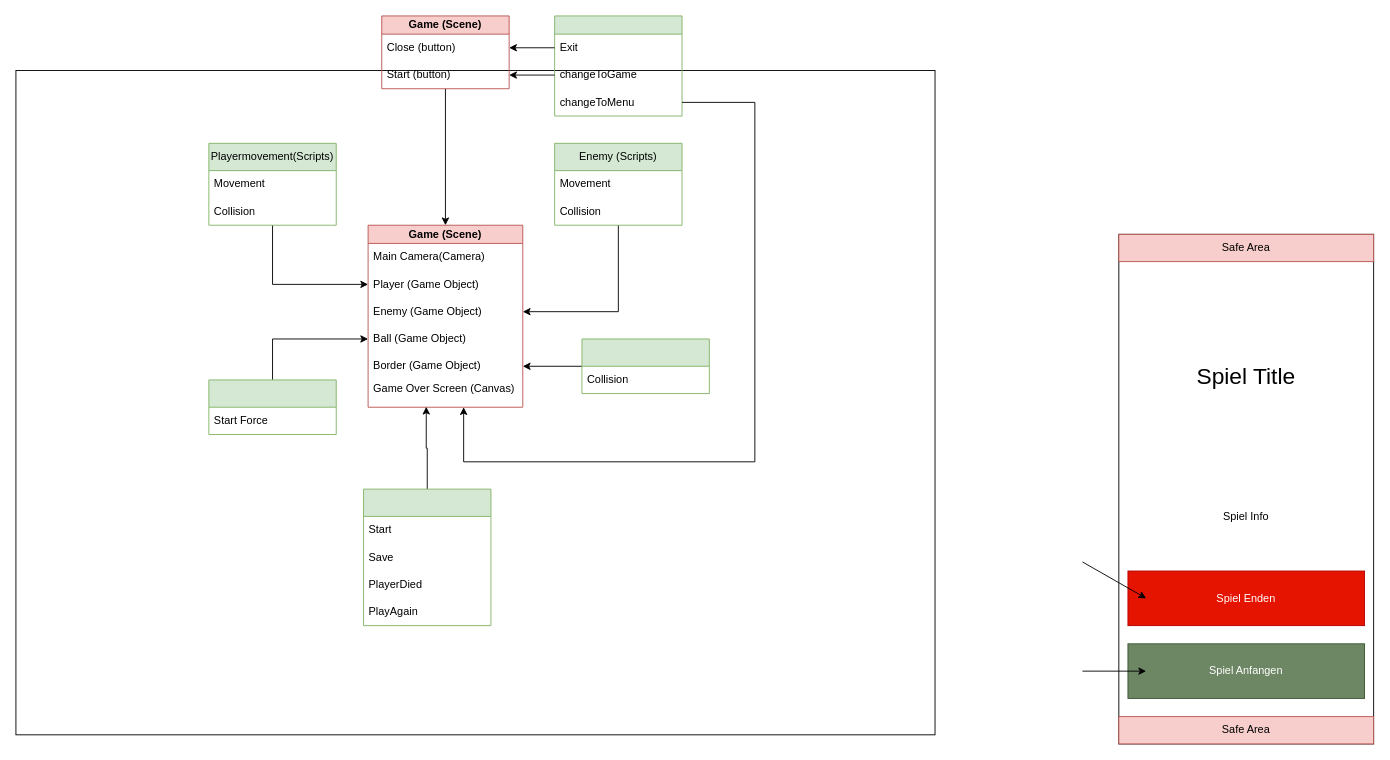
This 1390x760 diagram has some shape labels left out. Here are the shapes that lost their labels. From the top down, the box of each, then its label:
(554, 15, 682, 116): Start Menu (Scripts)
(581, 338, 709, 394): Border (Scripts)
(208, 379, 336, 435): Ball(Scripts)
(363, 488, 491, 626): World
